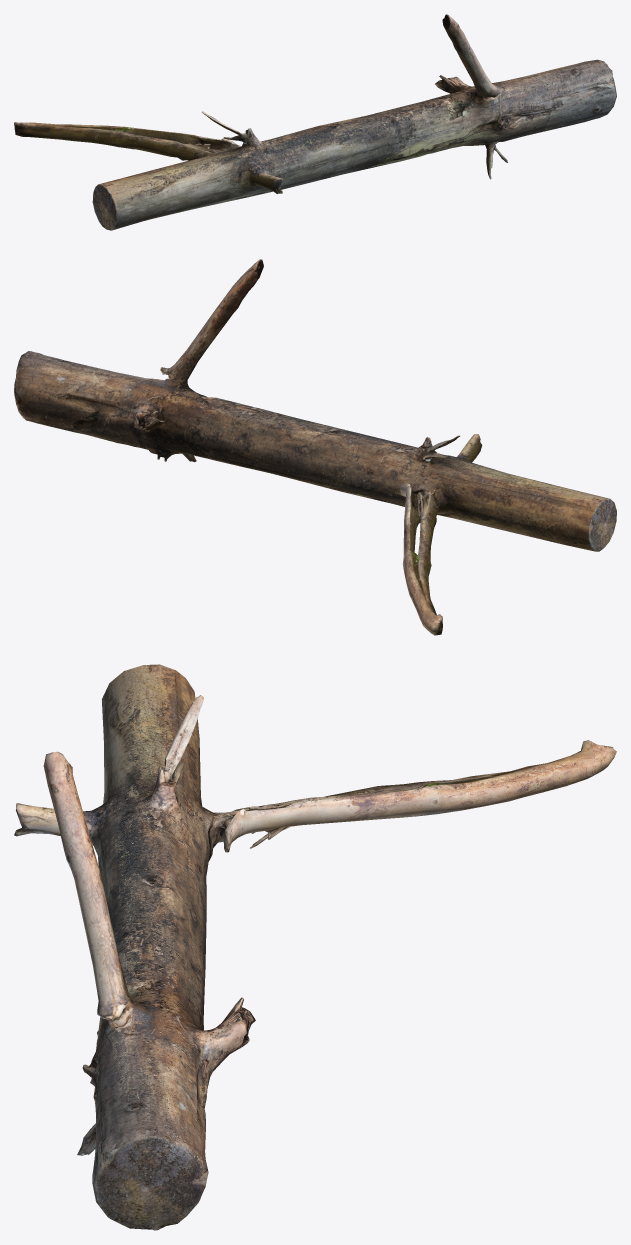
The model's file is SM_Debris_05_01.fbx.
3 renders of one model, top to bottom at view 1: azimuth 30°, elevation 25°; view 2: azimuth 150°, elevation 25°; view 3: azimuth 270°, elevation 25°, orthographic. The views are drawn at different scales.
Parts seen in each view (by area): view 1: sm_Debris_05_01_LOD0; view 2: sm_Debris_05_01_LOD0; view 3: sm_Debris_05_01_LOD0.
Part boxes in pixels (x1=…): sm_Debris_05_01_LOD0: x1=14, y1=14, x2=616, y2=230; sm_Debris_05_01_LOD0: x1=14, y1=259, x2=616, y2=635; sm_Debris_05_01_LOD0: x1=14, y1=664, x2=616, y2=1230.
Size of the model in its own units: 58.23 by 110 by 38.04.
